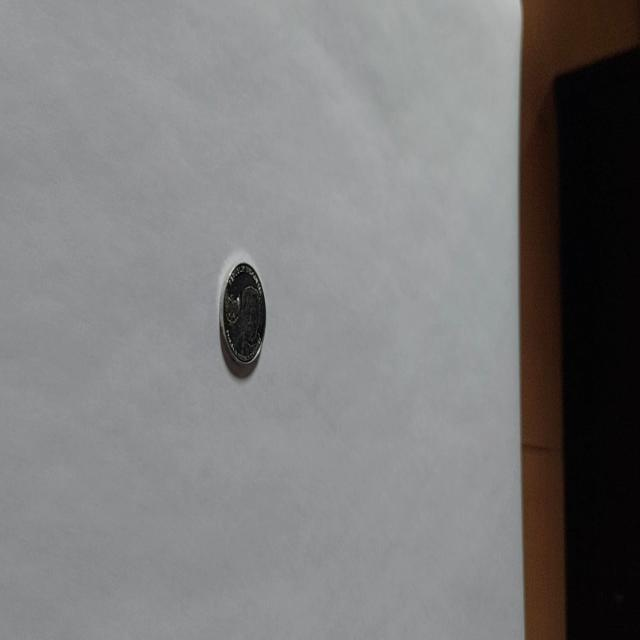seratus rupiah: (218, 260, 266, 374)
